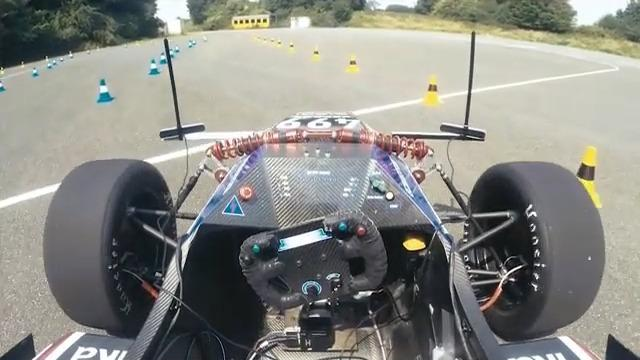blue_cone: (83, 73, 129, 115), (141, 53, 171, 83)
yellow_cone: (561, 139, 616, 207), (417, 70, 455, 117), (342, 50, 368, 86), (306, 42, 326, 64)
